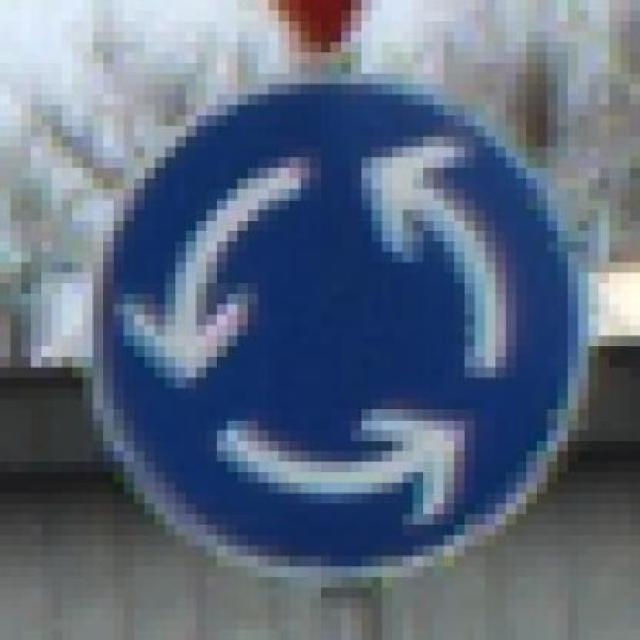Round-About: (82, 21, 600, 588)
